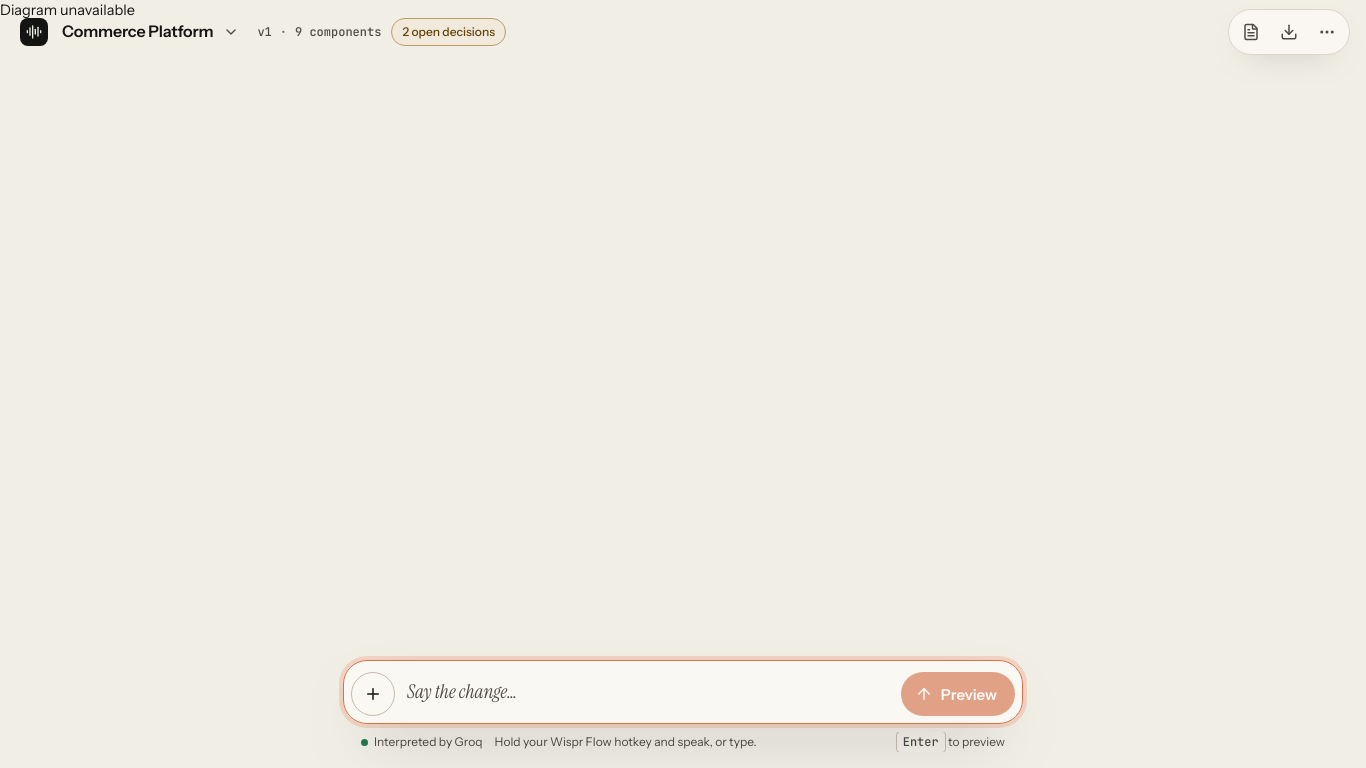
Test case: Model interpretation flow › falls back to offline rules when the interpretation server fails
The image size is (1366, 768).
Expected: the text "Interpreted by Groq" is shown, [361,733,482,751]
Click the button named "Switch project".
click(231, 32)  # box [215,16,247,48]
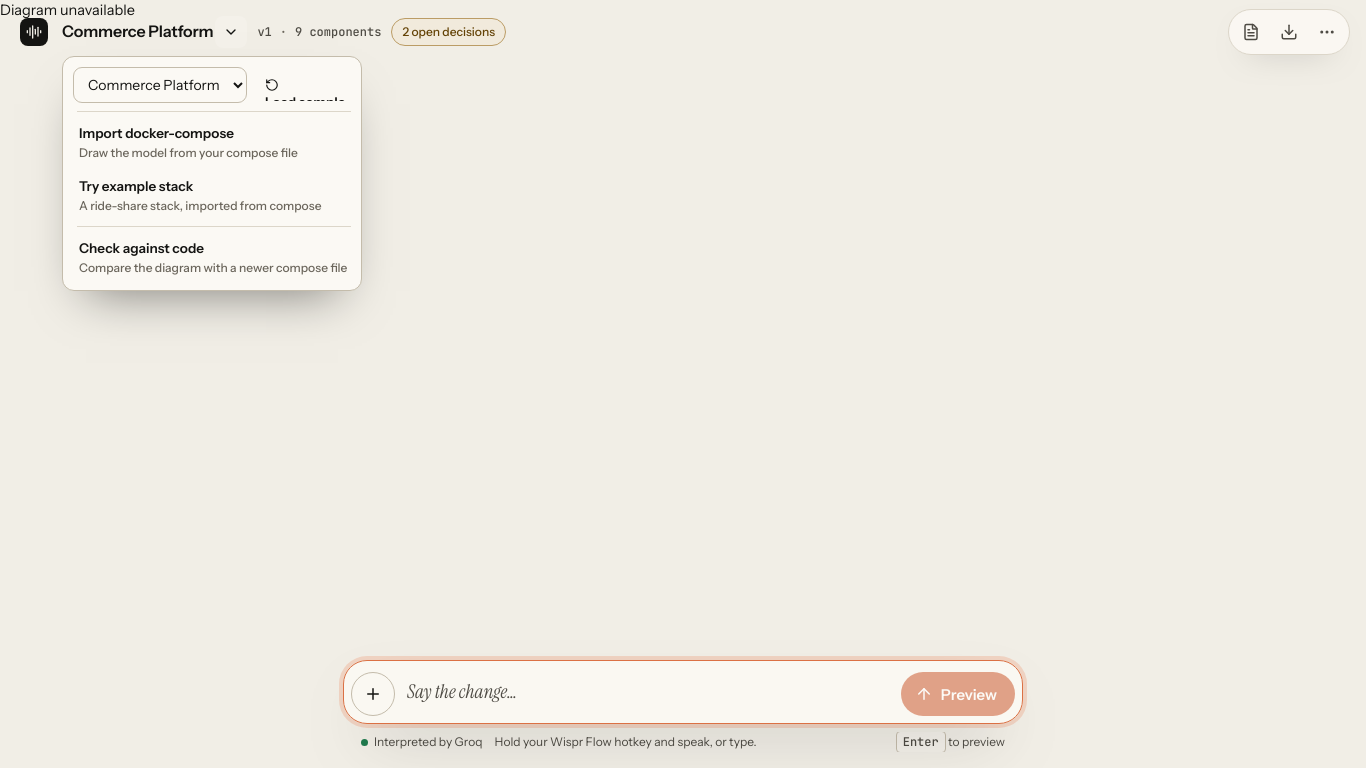
Click the button "Load sample".
click(305, 85)  # box [255,69,356,101]
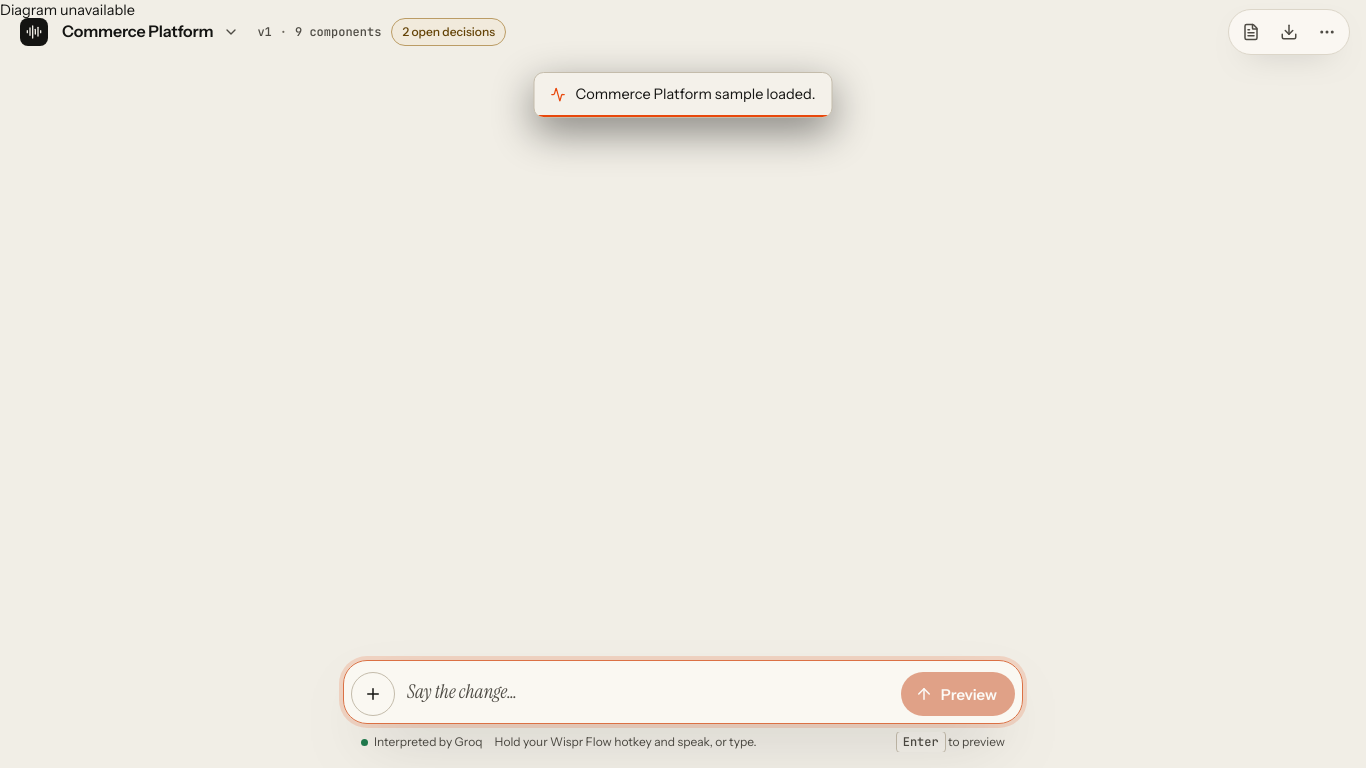
Type "add rate limiting to login" into the text box named "Your instruction".
click(648, 692); type("add rate limiting to login")  # box [401,668,895,716]
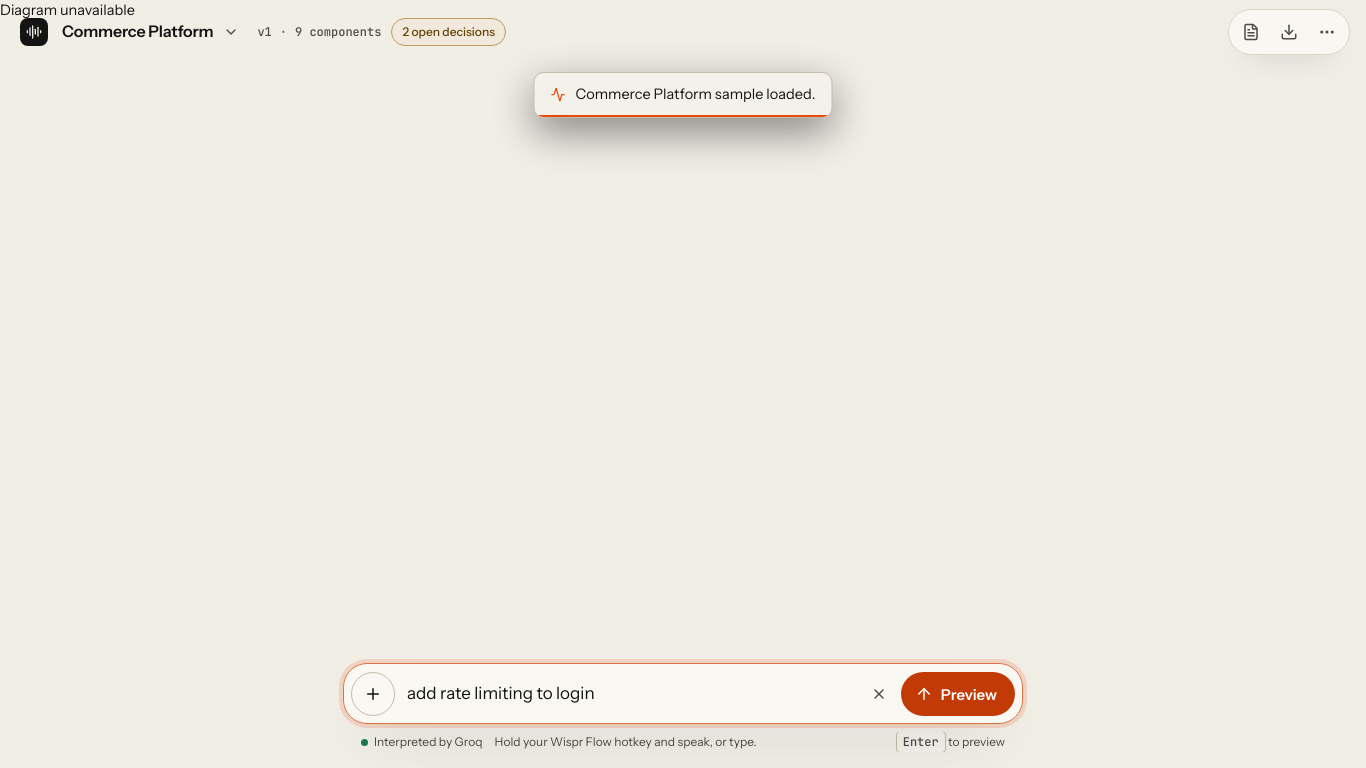
Click the button with aria-label "Preview my change".
click(958, 694)  # box [901,672,1015,716]
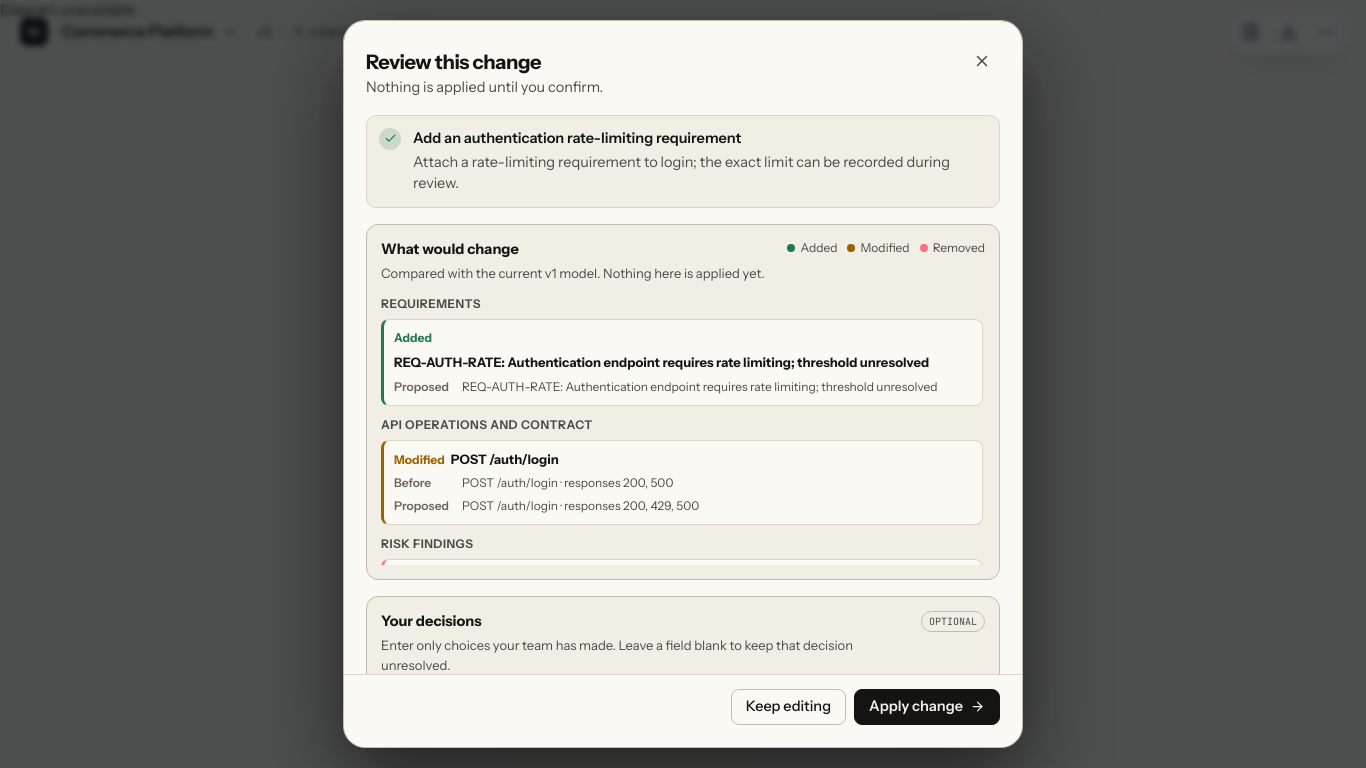
Expected: the text "Add an authentication rate-limiting requirement" is shown, [413,129,741,147]
Expected: the text "Using offline rules instead" is shown, [445,85,942,125]
